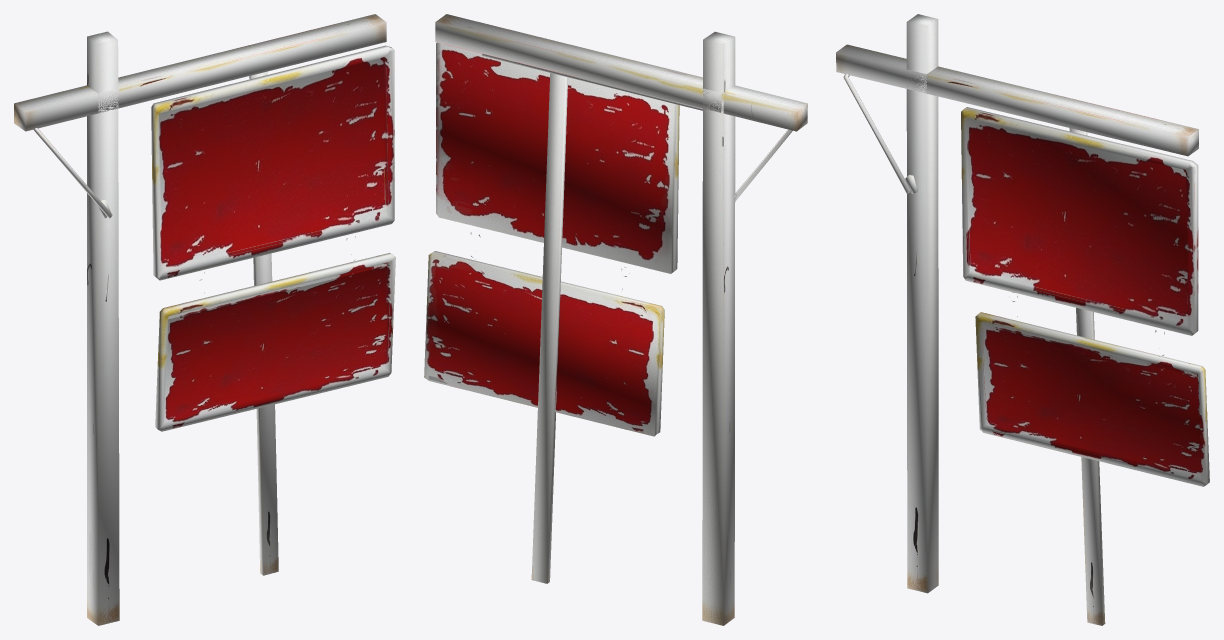
Rendered from real_estate_sign.glb.
3 renders of one model, left to right at view 1: azimuth 30°, elevation 25°; view 2: azimuth 150°, elevation 25°; view 3: azimuth 330°, elevation 25°, orthographic. The views are drawn at different scales.
Size of the model in its own units: 1.21 by 1.8 by 0.1083.
1 material, 1 textured.
